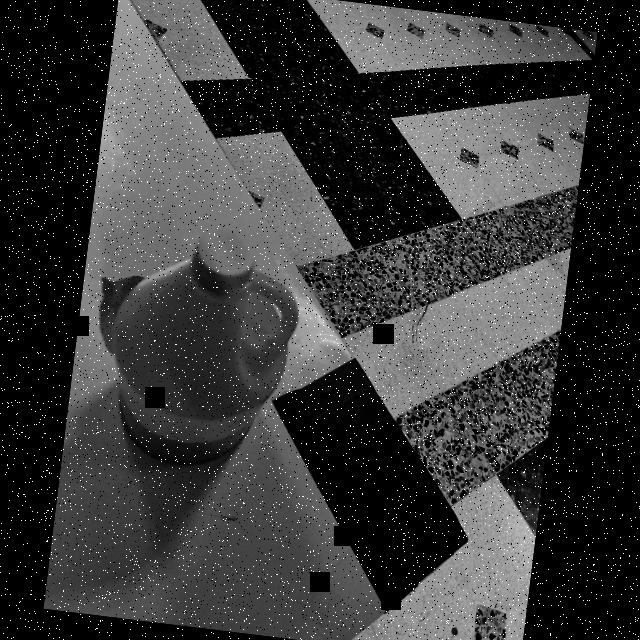chemical_plastic_gallon: (83, 194, 318, 490)
